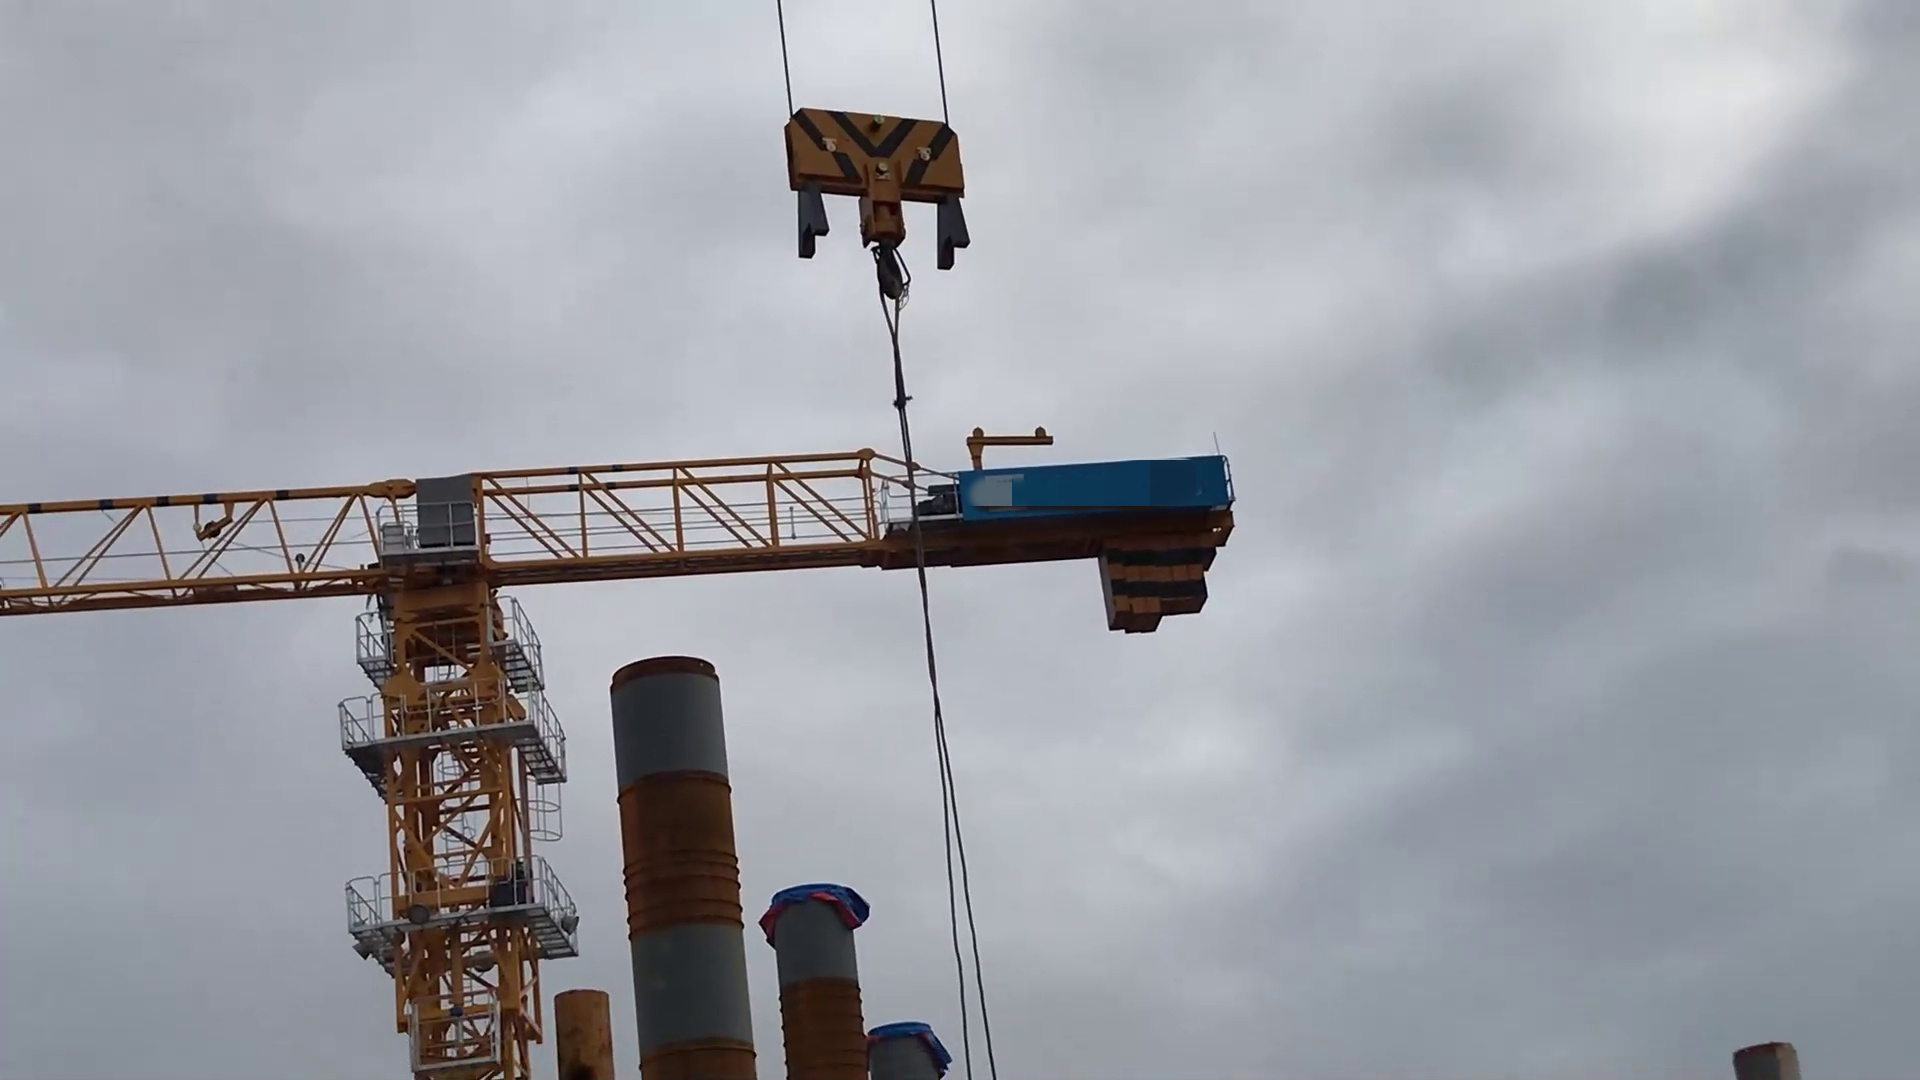hook: (774, 94, 984, 316)
